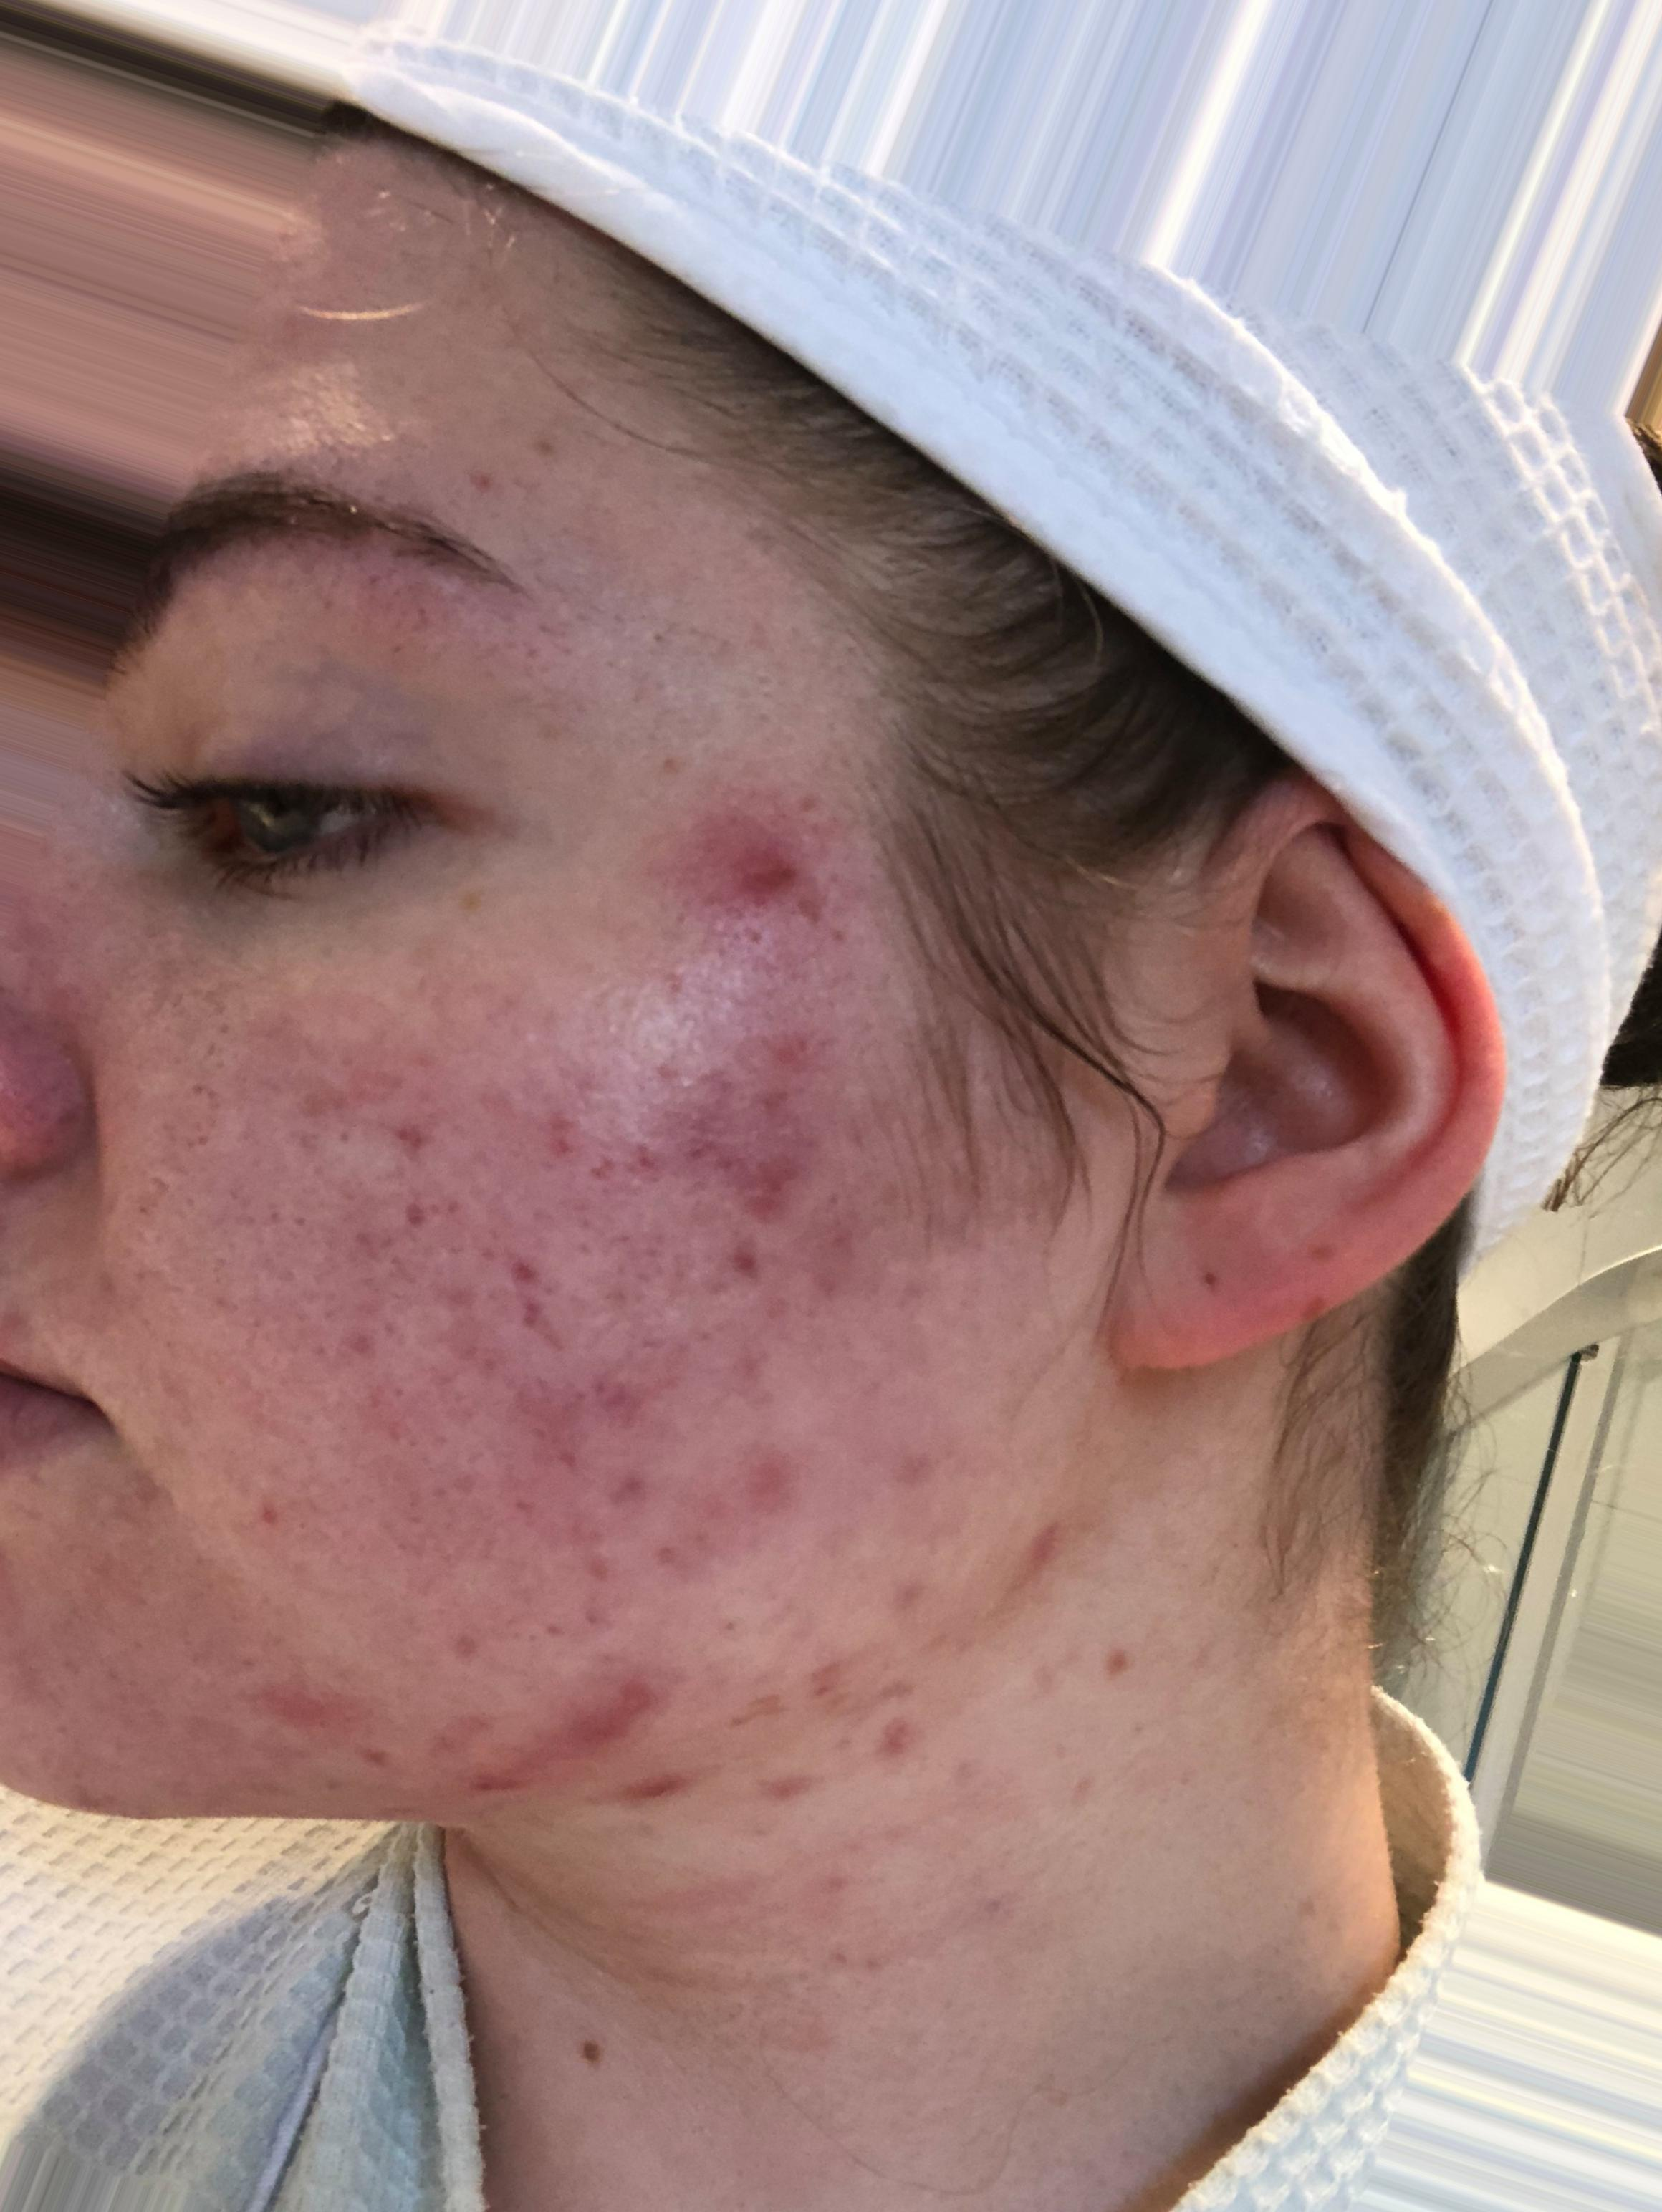Acne: (648, 1070, 908, 1322), (676, 812, 904, 1007), (712, 1383, 855, 1599)
